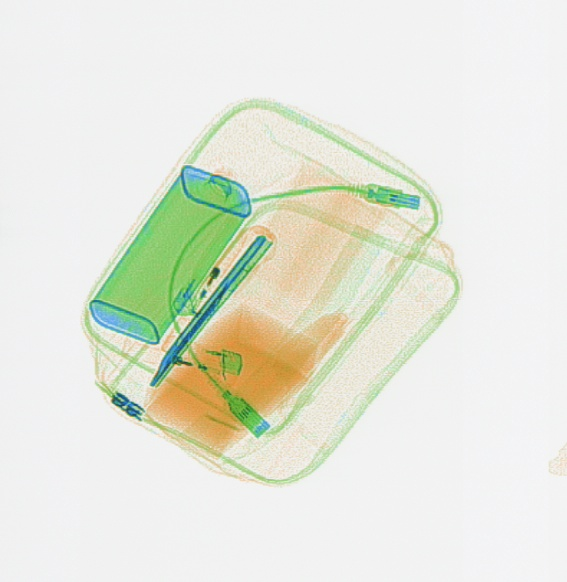lighter: (170, 230, 237, 317), (137, 340, 245, 376)
zippooil: (85, 161, 253, 345)
